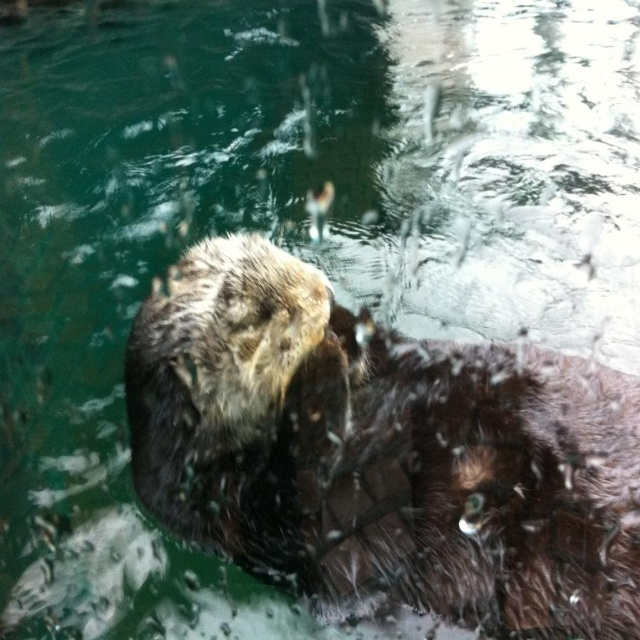Otter: (125, 230, 640, 640)
